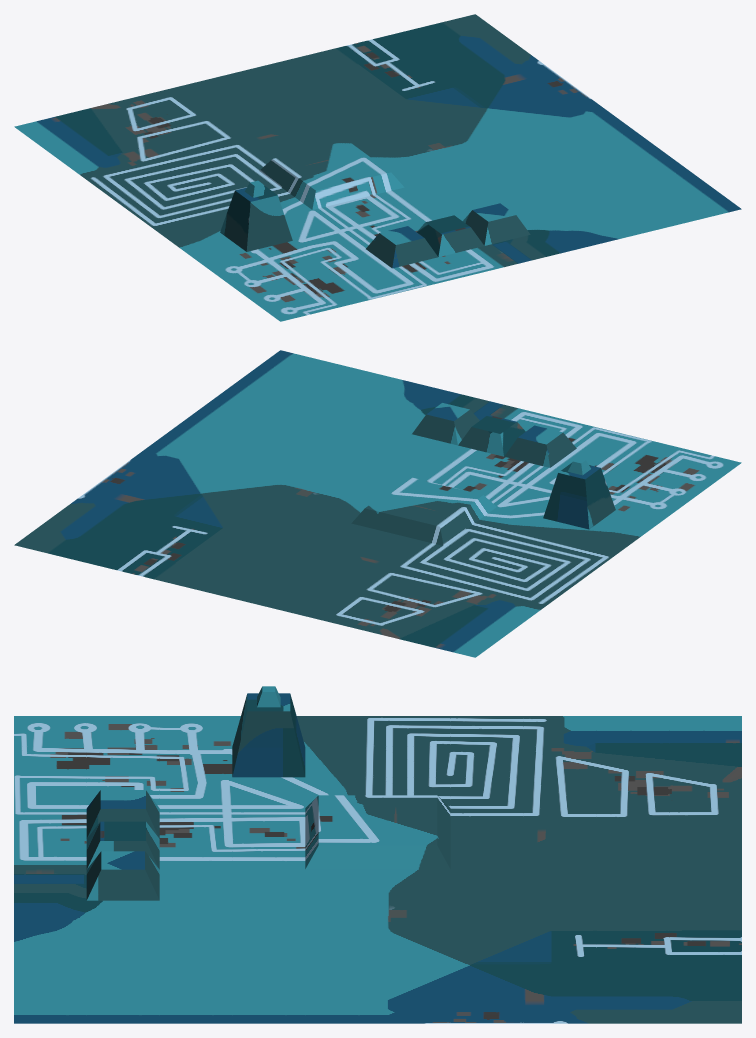
The model's file is floor.fbx.
3 views of the same model, one above another, from view 1: azimuth 30°, elevation 25°; view 2: azimuth 150°, elevation 25°; view 3: azimuth 270°, elevation 25° (orthographic). The views are drawn at different scales.
Parts seen in each view (by area): view 1: pPlane1; view 2: pPlane1; view 3: pPlane1.
Boxes of the visible parts, x1,y1,x2,y2 form: pPlane1: (14, 14, 741, 321); pPlane1: (14, 350, 741, 657); pPlane1: (14, 686, 741, 1023).
Size of the model in its own units: 194 by 21.45 by 194.
1 material, 1 textured.
